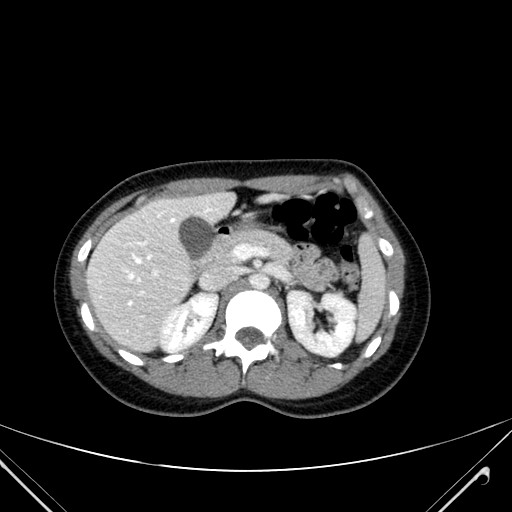vesicula: (176, 214, 217, 263)
